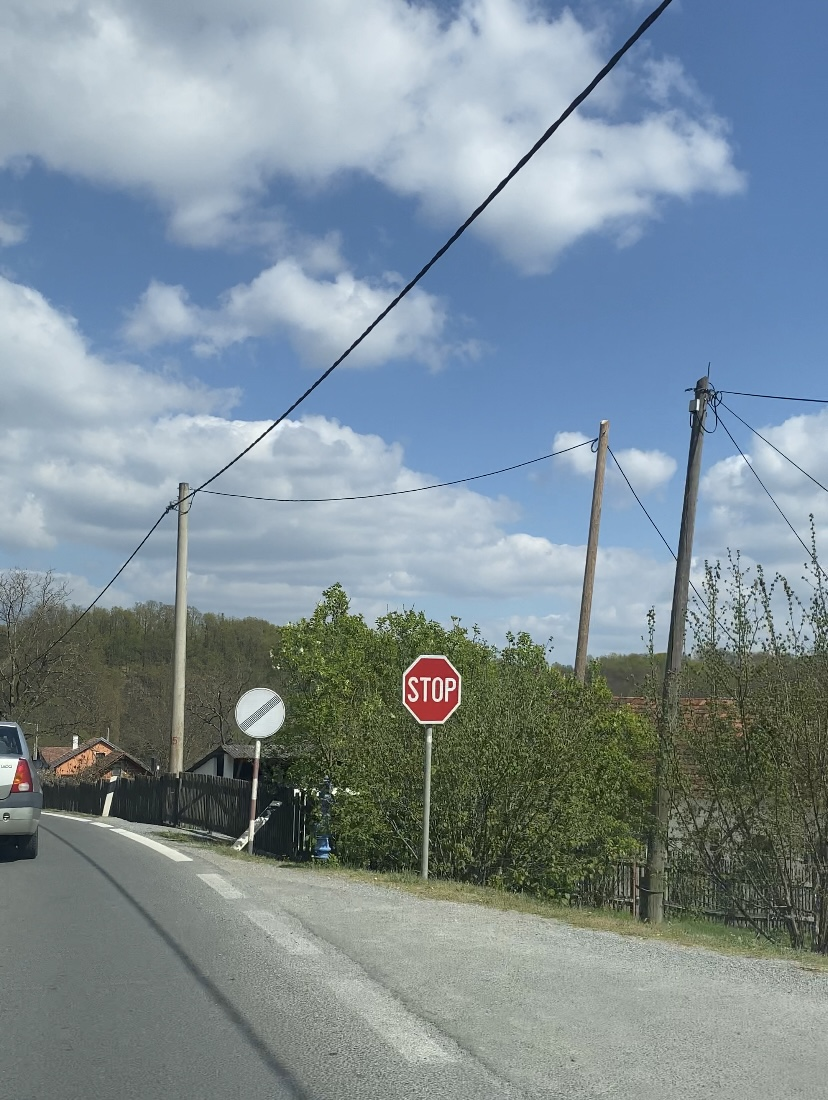Obavezno zaustavljanje: (402, 655, 462, 724)
